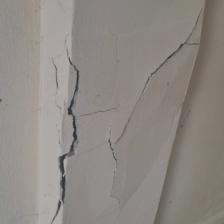High: (31, 5, 208, 224)
